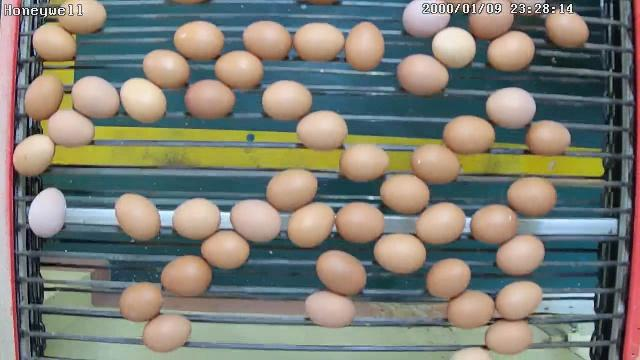egg: (264, 166, 320, 214), (314, 248, 368, 296), (113, 190, 162, 242), (159, 253, 214, 298), (372, 231, 428, 275), (229, 198, 282, 244), (504, 173, 558, 218), (395, 52, 450, 96), (119, 75, 168, 124), (414, 200, 466, 246), (484, 86, 538, 130), (70, 74, 120, 121), (494, 233, 546, 278), (286, 200, 334, 248), (241, 20, 293, 64), (293, 20, 345, 64), (261, 78, 313, 122), (468, 202, 520, 246), (170, 196, 222, 240), (338, 140, 390, 184), (172, 19, 225, 62), (295, 109, 348, 152), (378, 172, 431, 215), (442, 114, 496, 156), (334, 200, 385, 244), (485, 28, 536, 72), (184, 78, 236, 121), (344, 19, 386, 72), (199, 228, 252, 270), (140, 312, 193, 354), (141, 46, 191, 90), (410, 142, 460, 185), (494, 279, 544, 322), (445, 288, 496, 330), (213, 49, 265, 90), (304, 288, 356, 329), (28, 185, 68, 238), (430, 25, 477, 70), (22, 72, 65, 121), (11, 132, 56, 178), (425, 256, 472, 300), (466, 0, 516, 41), (46, 108, 96, 148), (401, 0, 452, 39), (544, 7, 590, 50), (118, 280, 164, 322), (55, 0, 108, 36), (484, 317, 534, 355), (32, 22, 78, 63), (524, 120, 572, 158)
